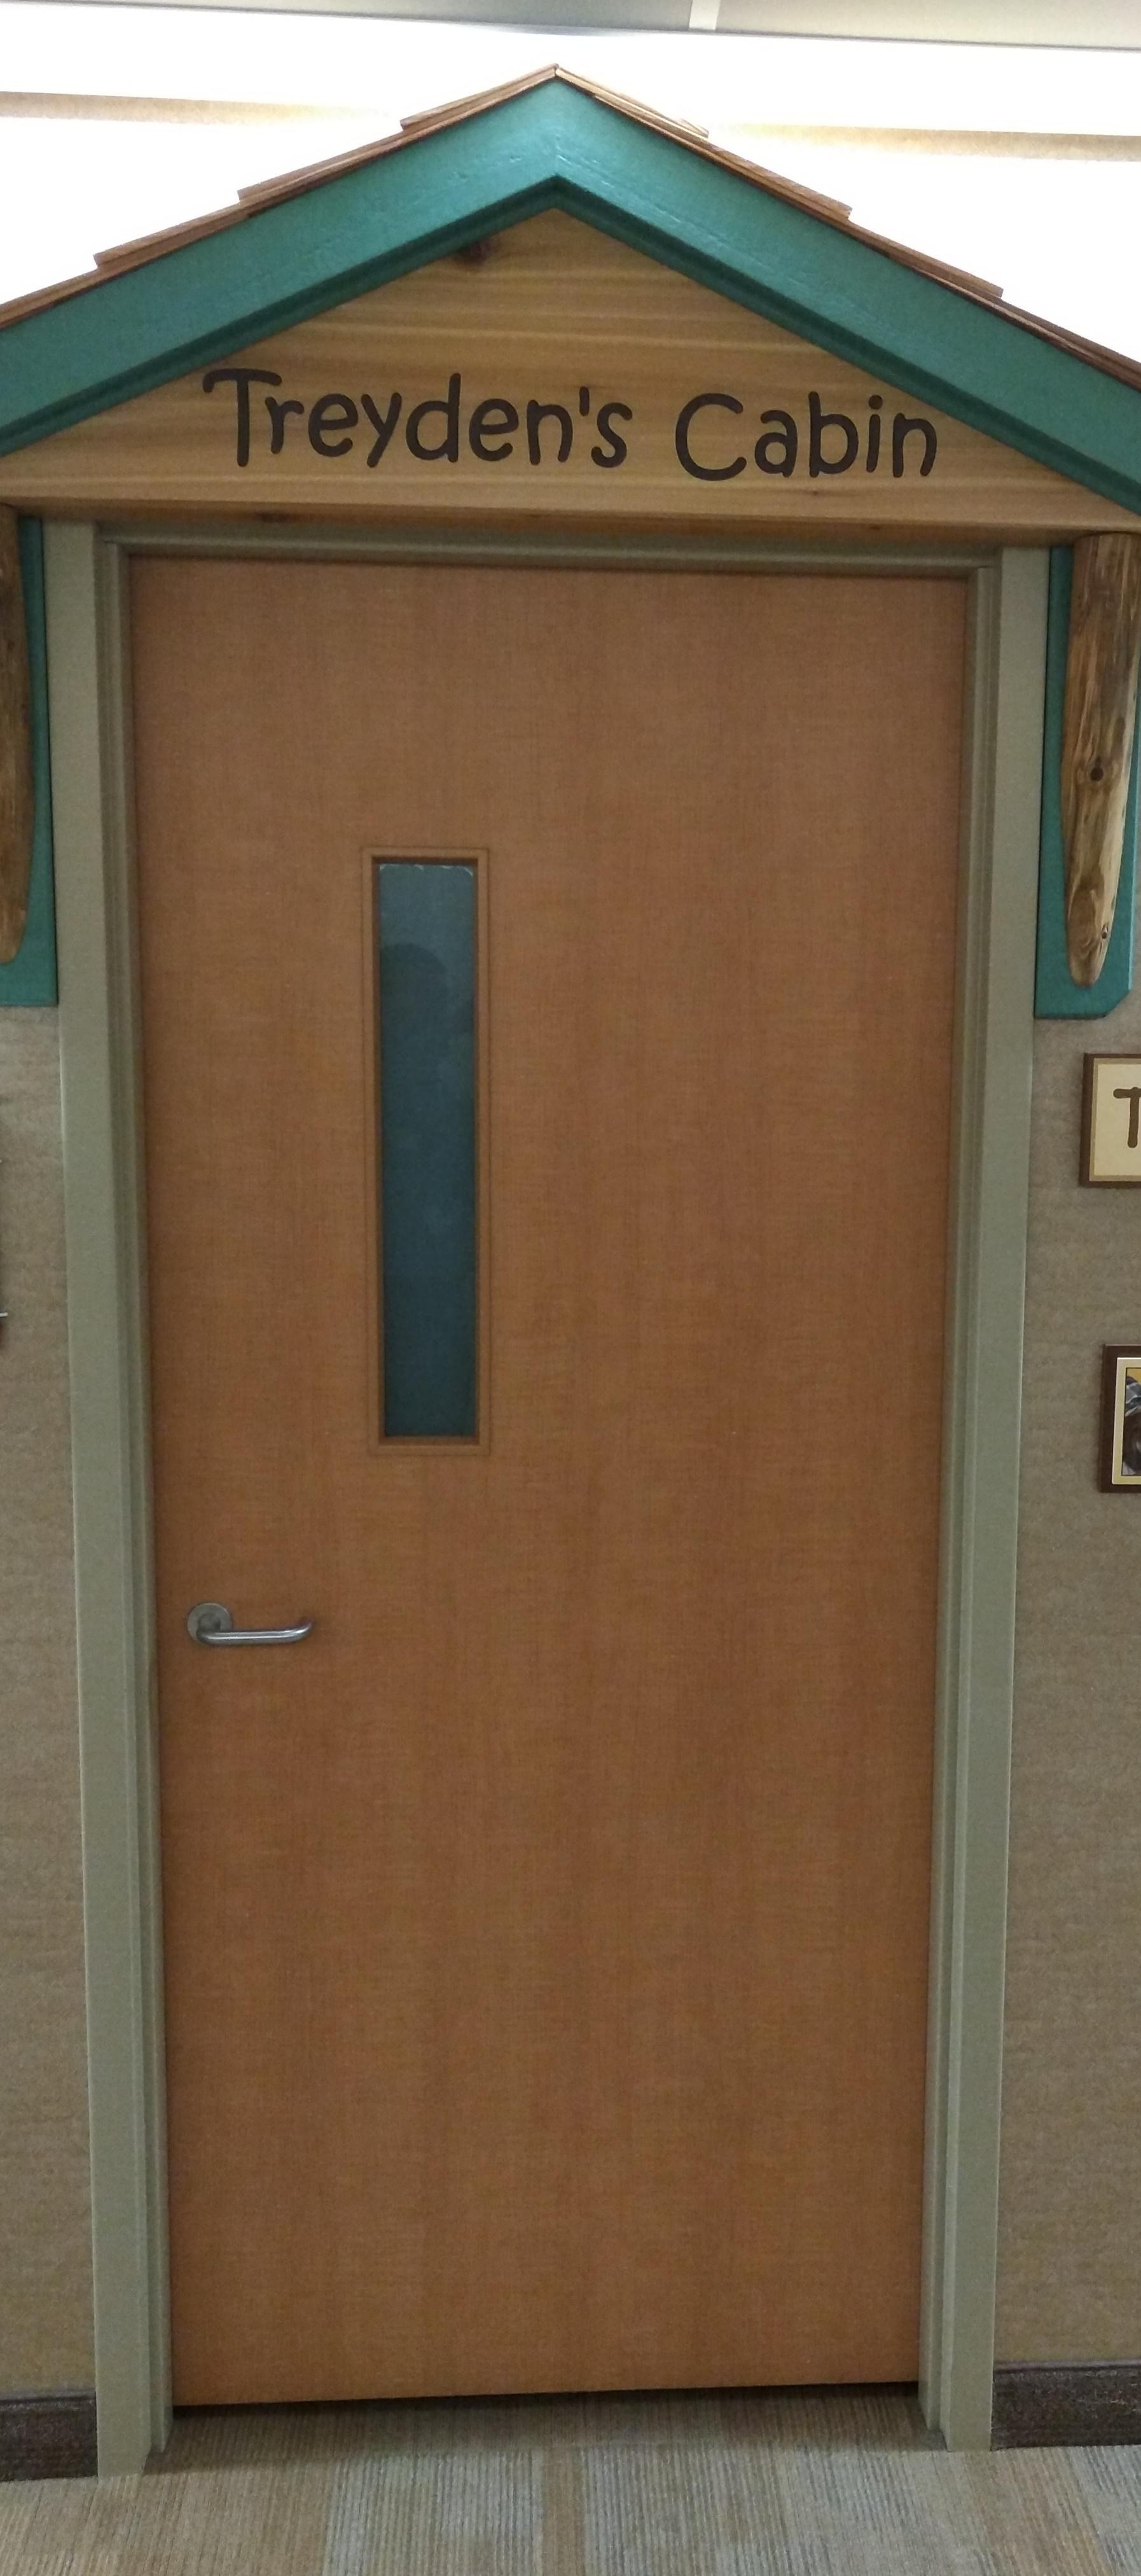door: (61, 516, 1001, 2451)
